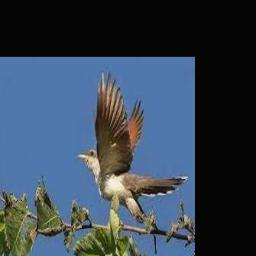Cuckoo: (76, 68, 188, 220)
